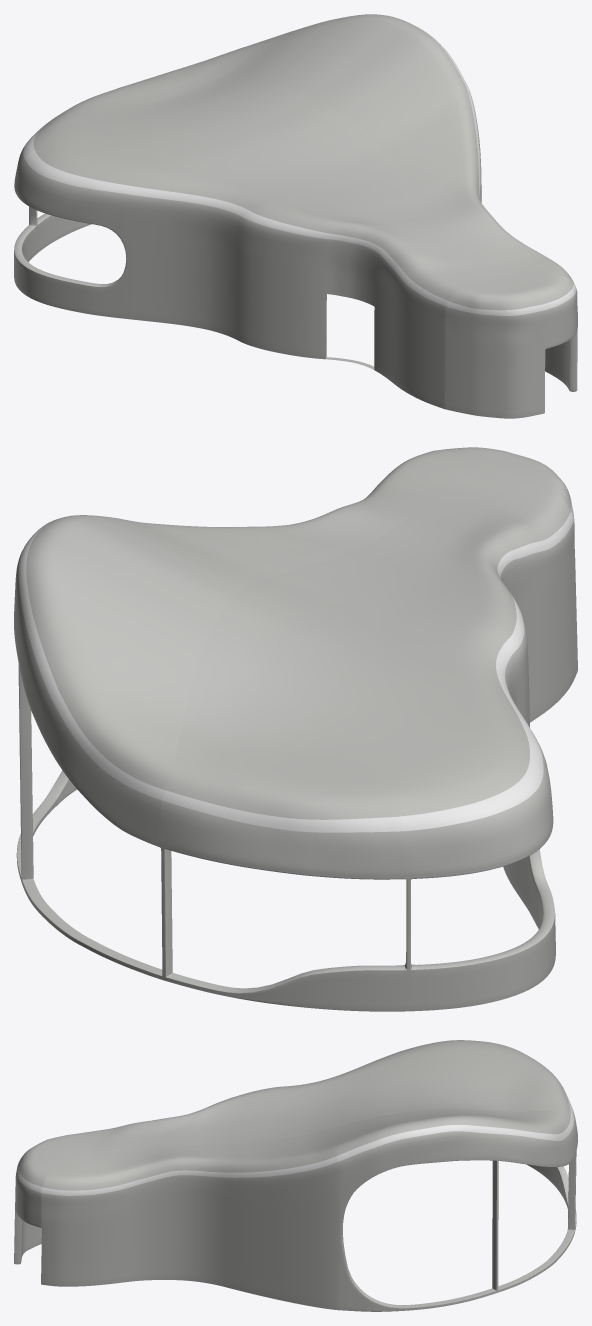
The model's file is Roof.fbx.
3 views of the same model, one above another, from view 1: azimuth 30°, elevation 25°; view 2: azimuth 150°, elevation 25°; view 3: azimuth 270°, elevation 25° (orthographic). The views are drawn at different scales.
Visible parts, largest first — view 1: Full_Roof_Finnished; view 2: Full_Roof_Finnished; view 3: Full_Roof_Finnished.
Part boxes in pixels (x1,y1,x2,y2): Full_Roof_Finnished: (14,14,577,418); Full_Roof_Finnished: (14,447,577,1011); Full_Roof_Finnished: (14,1040,577,1311).
Bounding box in the file's own units: 1354 × 690 × 1952.
